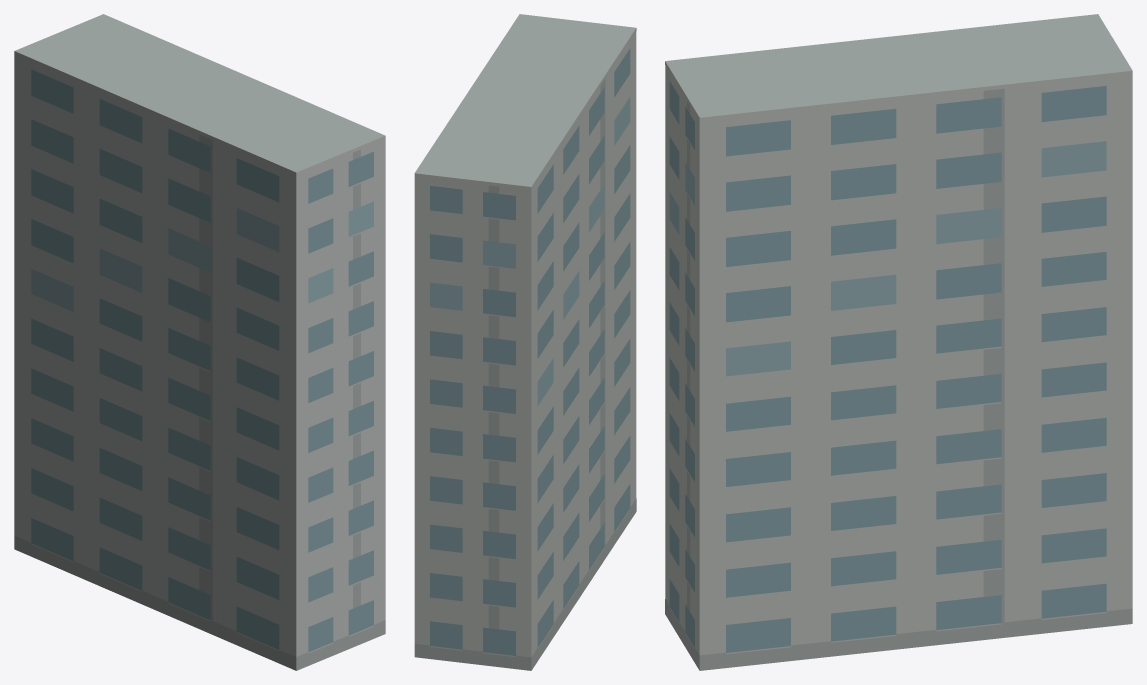
Rendered from residential-74da373f-91dc-48af-8a27-fd8790344c13.glb.
3 renders of one model, left to right at view 1: azimuth 30°, elevation 25°; view 2: azimuth 150°, elevation 25°; view 3: azimuth 270°, elevation 25°, orthographic. The views are drawn at different scales.
Visible parts, largest first — view 1: residential-74da373f-91dc-48af-8a27-fd8790344c13.tmp; view 2: residential-74da373f-91dc-48af-8a27-fd8790344c13.tmp; view 3: residential-74da373f-91dc-48af-8a27-fd8790344c13.tmp.
Part boxes in pixels (<box>): residential-74da373f-91dc-48af-8a27-fd8790344c13.tmp: <box>14,14,385,670</box>; residential-74da373f-91dc-48af-8a27-fd8790344c13.tmp: <box>414,14,636,670</box>; residential-74da373f-91dc-48af-8a27-fd8790344c13.tmp: <box>665,14,1132,670</box>.
Bounding box in the file's own units: 13.69 × 34 × 26.06.
